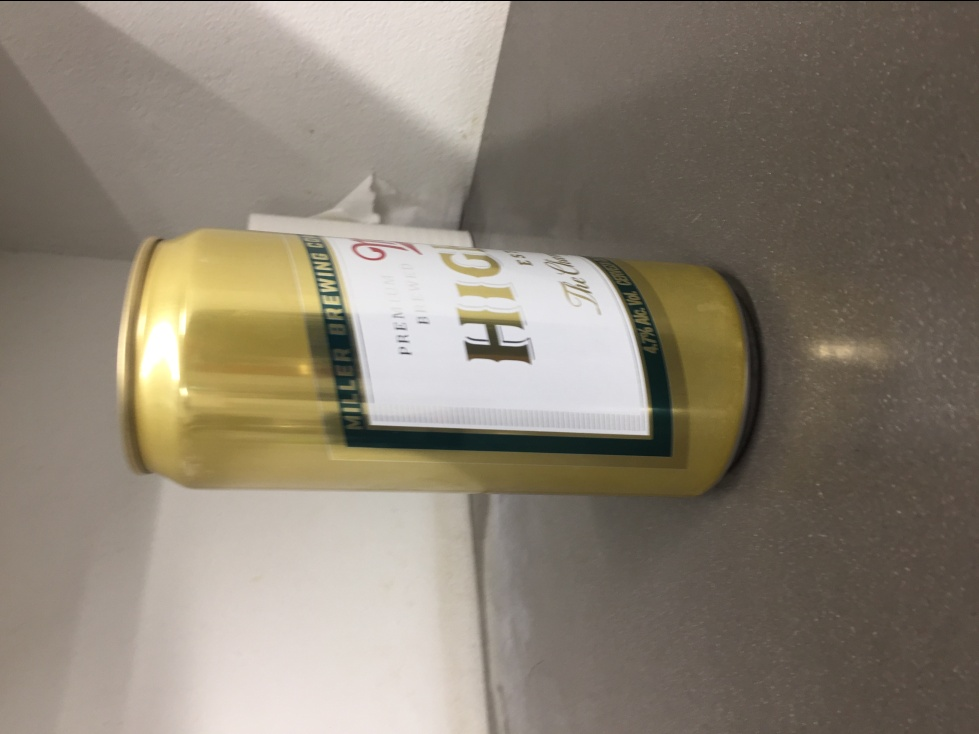miller: (112, 223, 756, 505)
